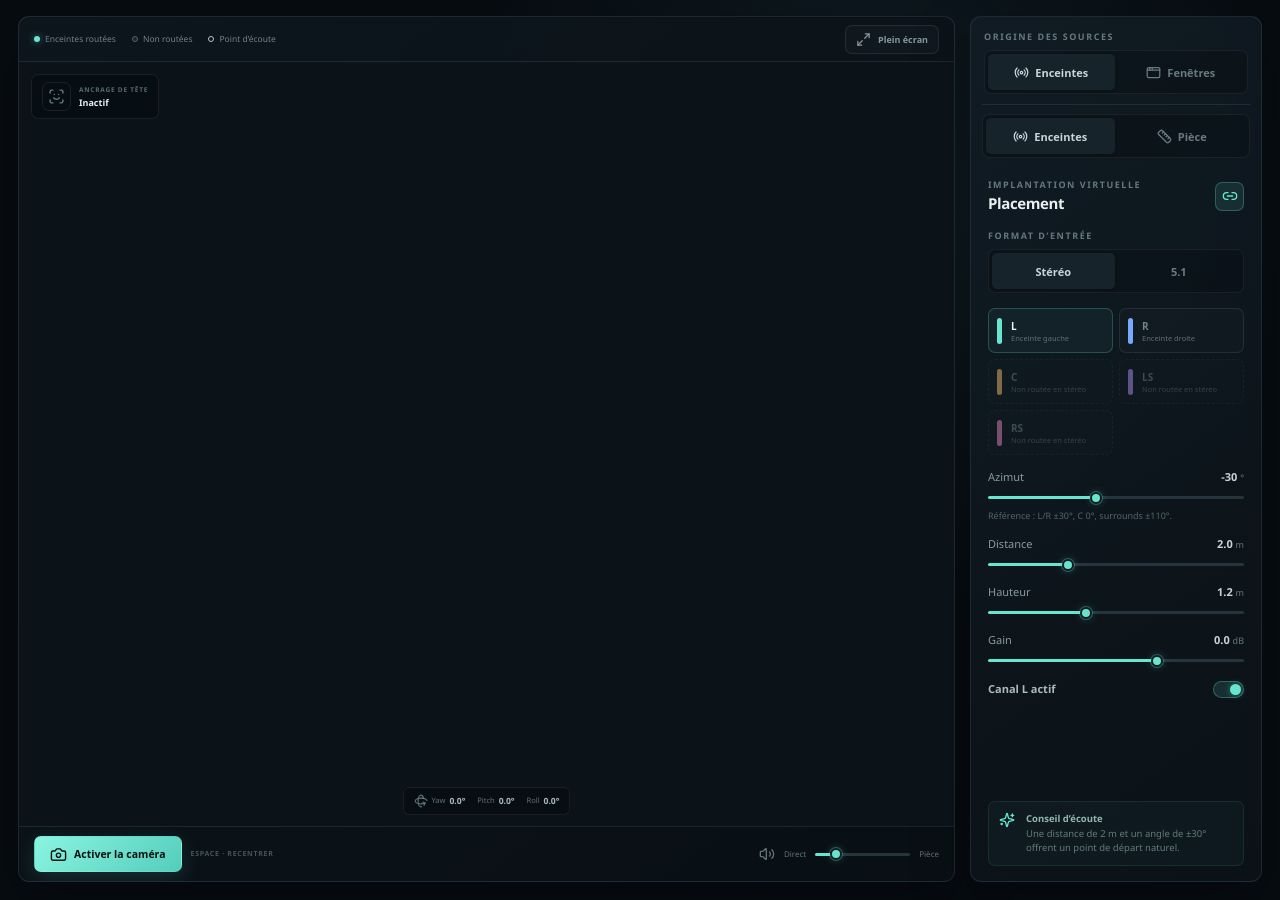
Scenario: éditeur d’implantation 5.1 › bascule vers la spatialisation stéréo par fenêtres
Click the radio button labelled "Fenêtres" at (1181, 72), box [1118,54,1244,90]
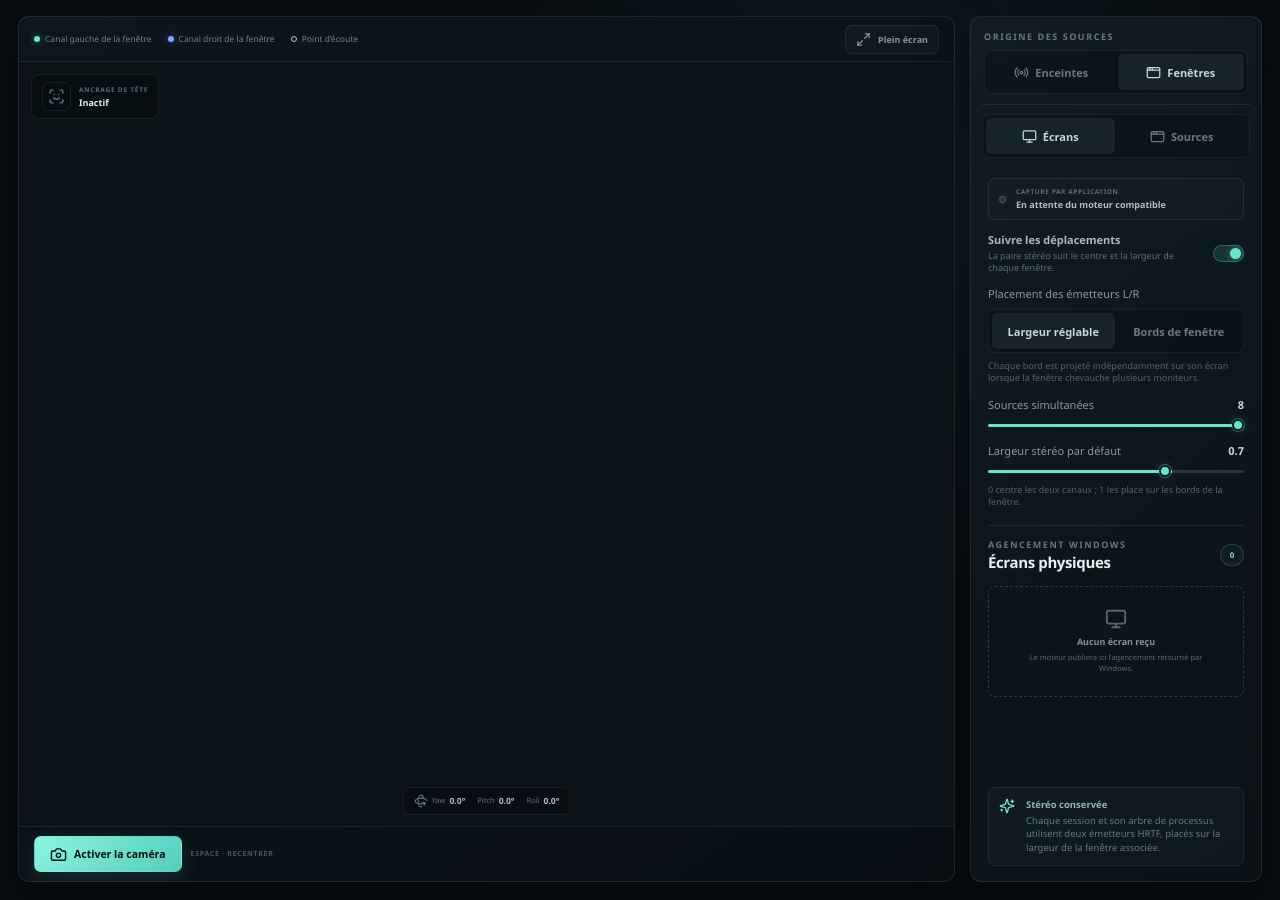
Expected: the element named "Panneau de spatialisation des fenêtres" is shown, [982,114,1250,158]
Expected: the text "Aucun écran reçu" is shown, [1077,635,1155,648]
